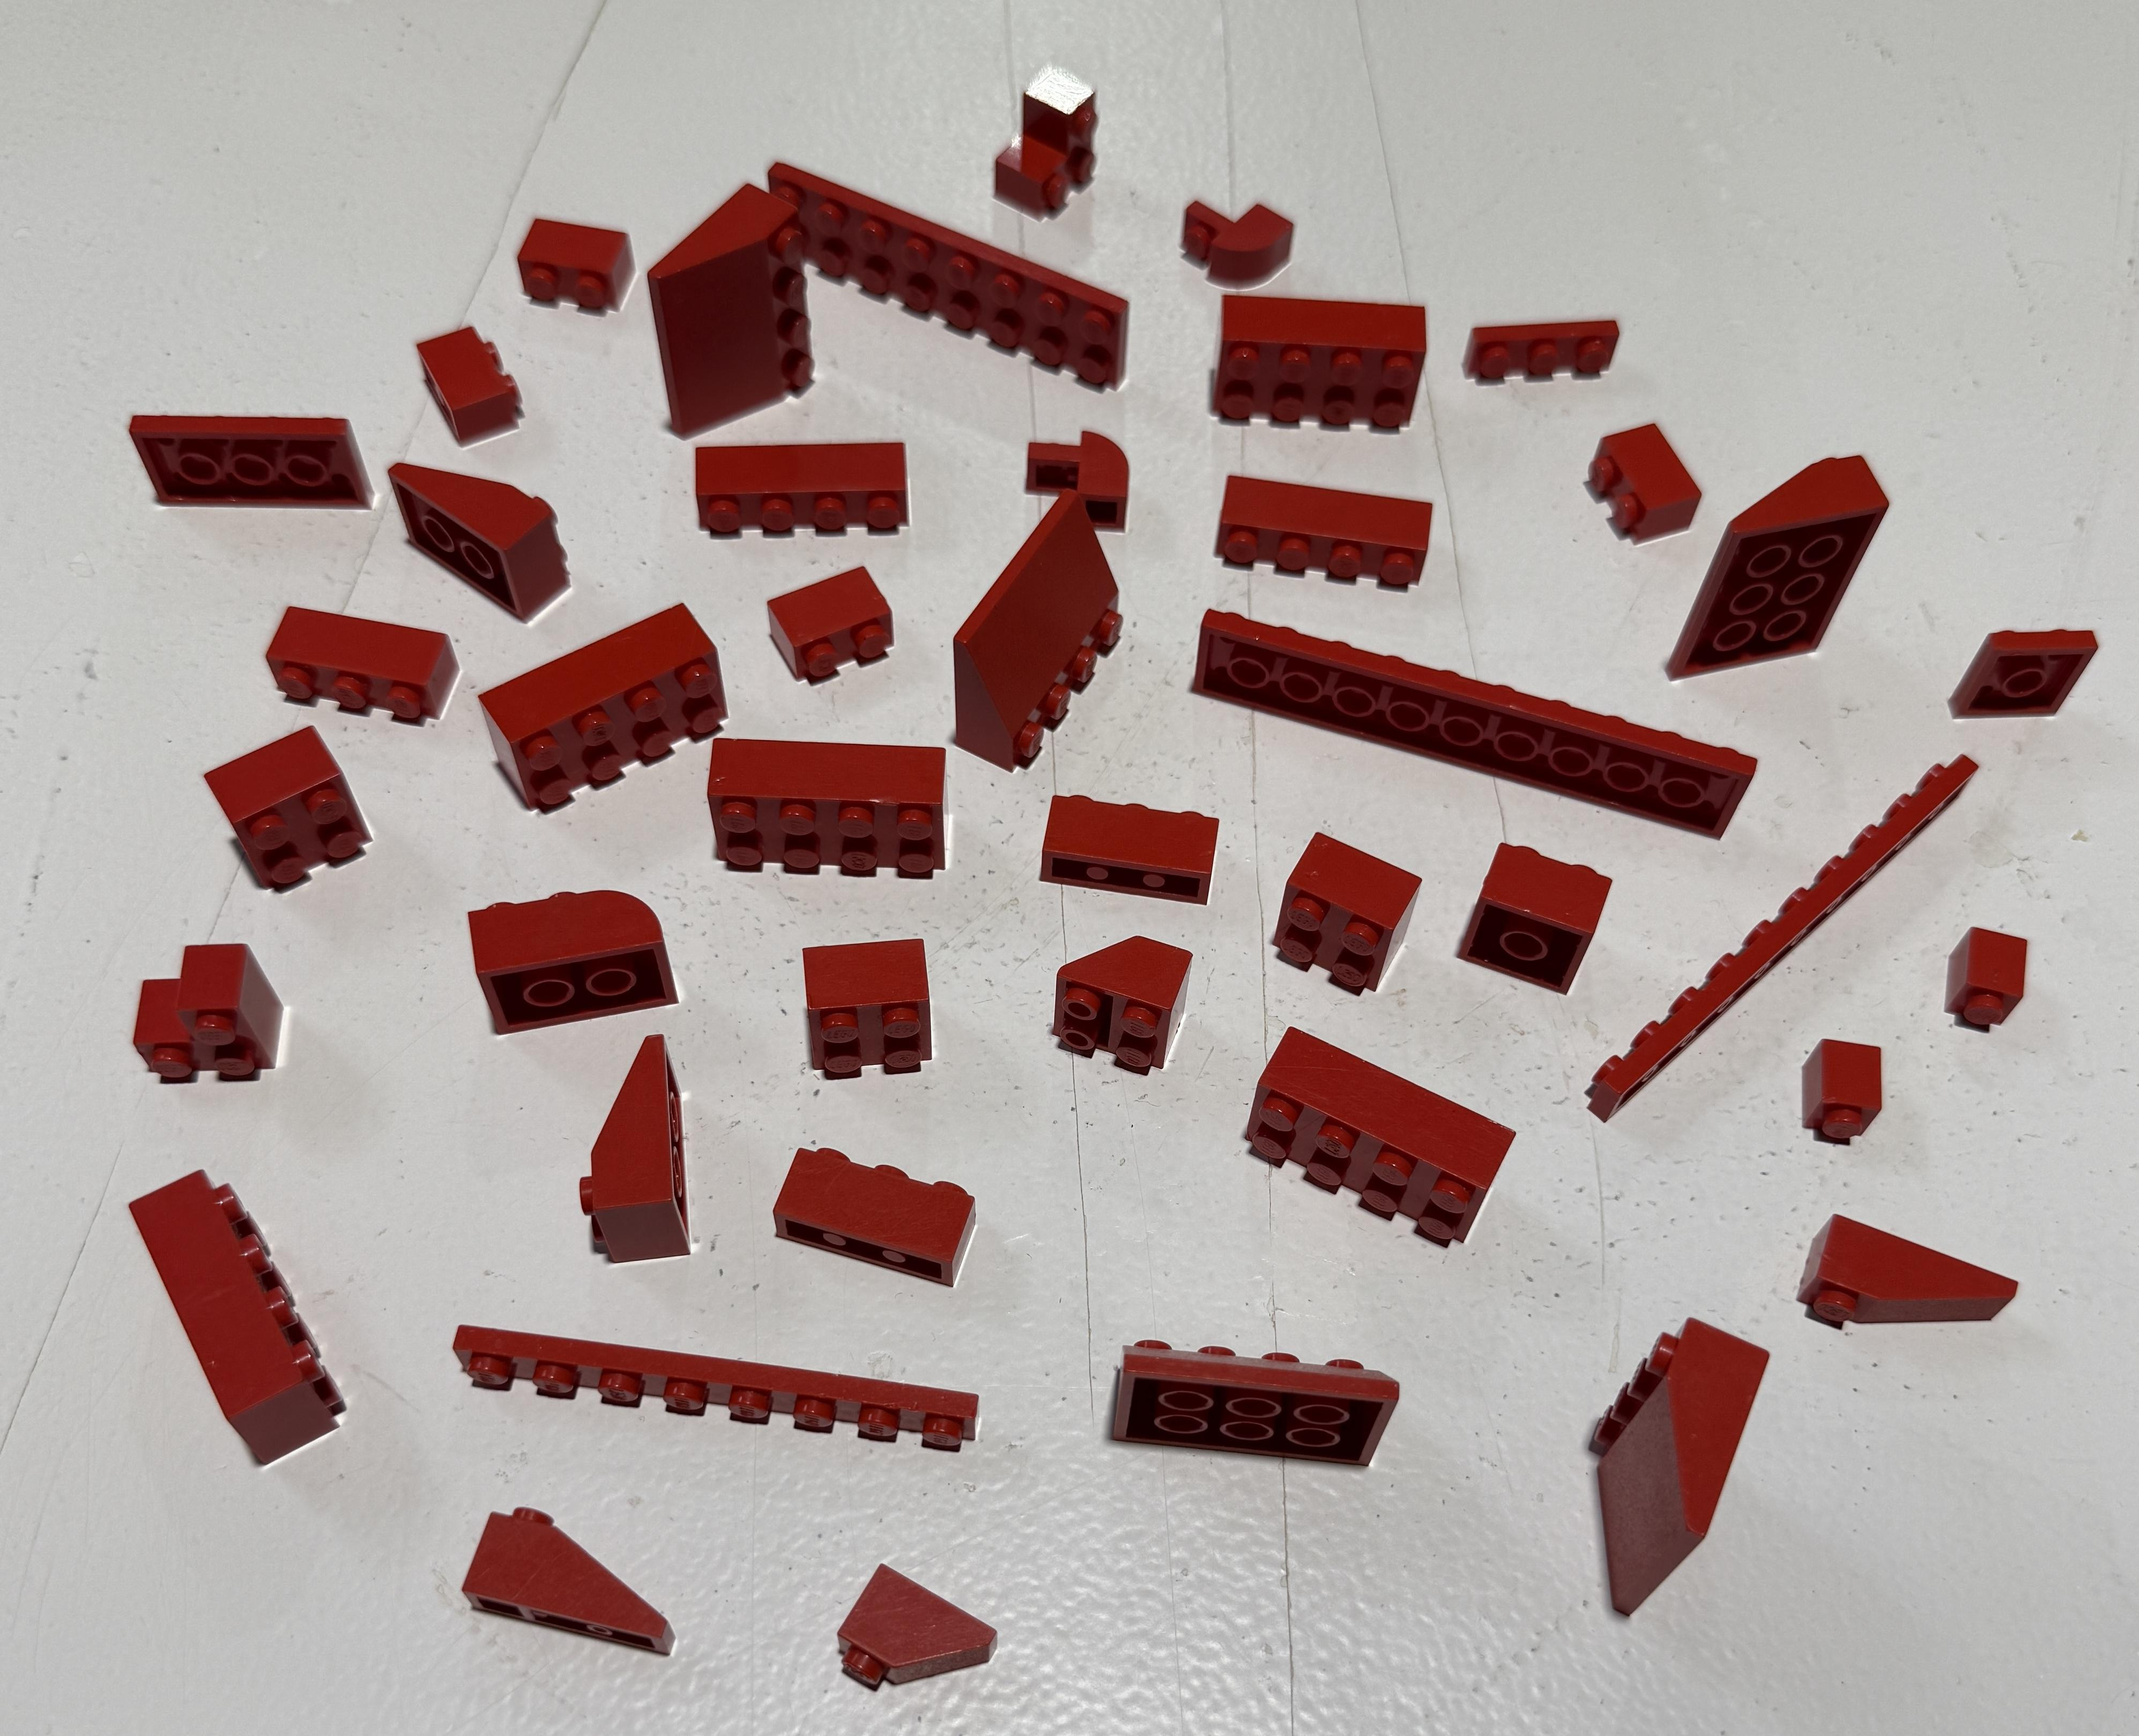Special_02: (413, 1488, 689, 1685), (537, 1022, 734, 1291), (377, 438, 588, 624)
brick_1x1: (1914, 907, 2056, 1049), (1774, 1006, 1900, 1166)
brick_1x2: (734, 537, 911, 700), (1570, 400, 1730, 572), (393, 301, 546, 473), (500, 197, 666, 329)
brick_1x3: (757, 1123, 1003, 1302), (1015, 765, 1280, 926), (246, 585, 482, 744)
brick_1x4: (1186, 453, 1478, 624), (673, 420, 923, 549)
brick_2x2: (172, 709, 397, 914), (1437, 815, 1616, 1017), (767, 914, 964, 1095), (1267, 818, 1428, 1015)
brick_2x4: (108, 1139, 370, 1476), (1223, 1011, 1540, 1283), (447, 604, 734, 827), (686, 716, 968, 898), (1186, 275, 1450, 455)
plate_2x2: (1944, 615, 2107, 742)
